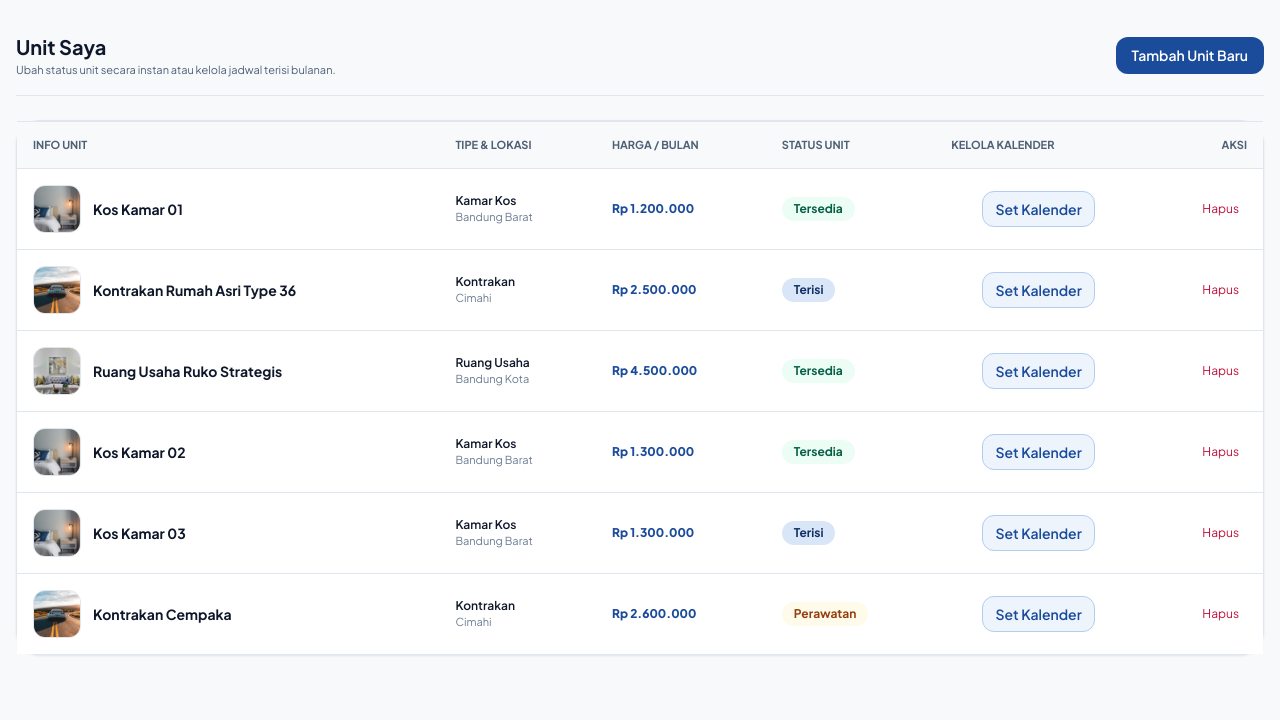
Test: UnitListPage › menampilkan sebab saat ubah status gagal, bukan diam saja
What coordinates should you click on to do the following:
click the button with aria-label "Ubah status"
I would click on:
 (818, 209)
Its box is left=782, top=197, right=855, bottom=221.
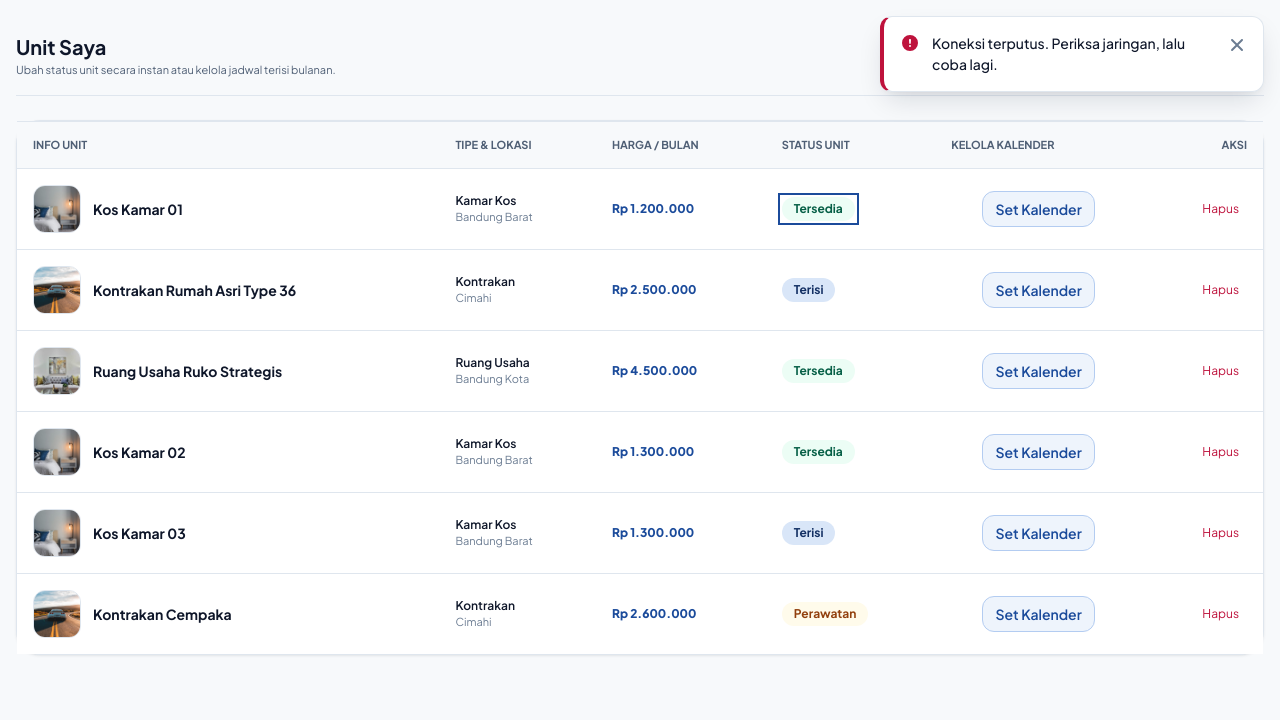
Now the text "Koneksi terputus. Periksa jaringan, lalu coba lagi." is shown, box left=932, top=33, right=1215, bottom=75
